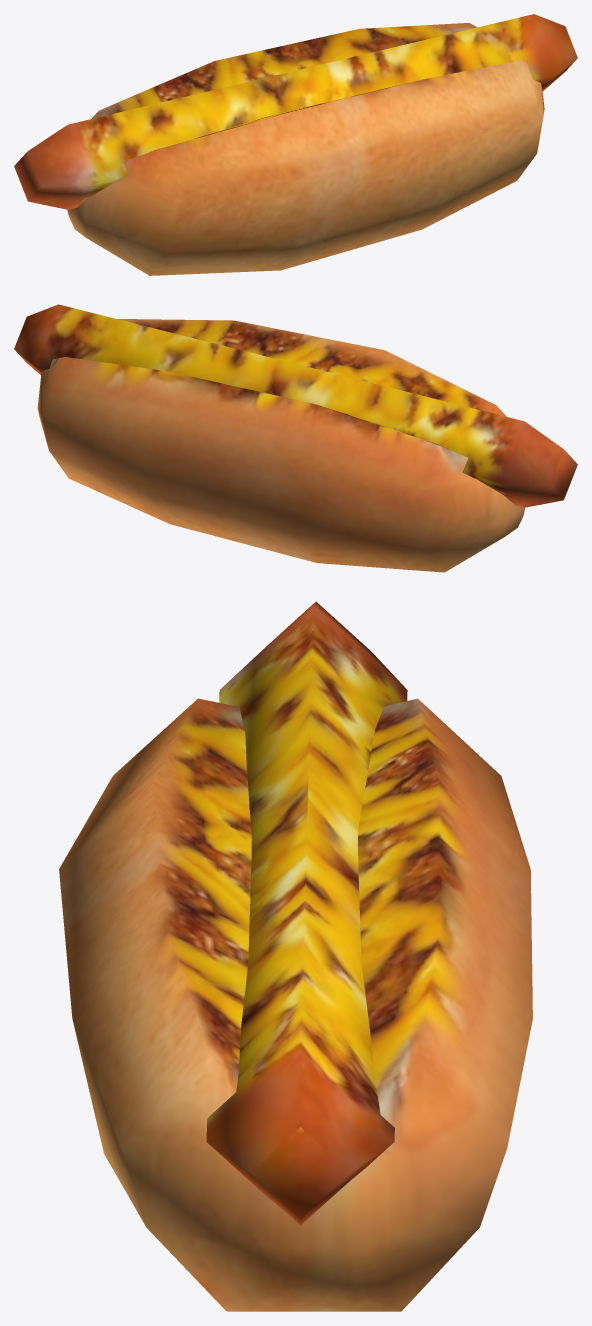
The model's file is Hotdog_01.dae.
3 renders of one model, top to bottom at view 1: azimuth 30°, elevation 25°; view 2: azimuth 150°, elevation 25°; view 3: azimuth 270°, elevation 25°, orthographic. The views are drawn at different scales.
Visible parts, largest first — view 1: Hotdog_01; view 2: Hotdog_01; view 3: Hotdog_01.
Part boxes in pixels (box(x1,y1,x2,y2)): Hotdog_01: box(14, 14, 577, 275); Hotdog_01: box(14, 304, 577, 572); Hotdog_01: box(59, 601, 532, 1311).
Size of the model in its own units: 0.3035 by 0.1167 by 0.089.
1 material, 1 textured.
